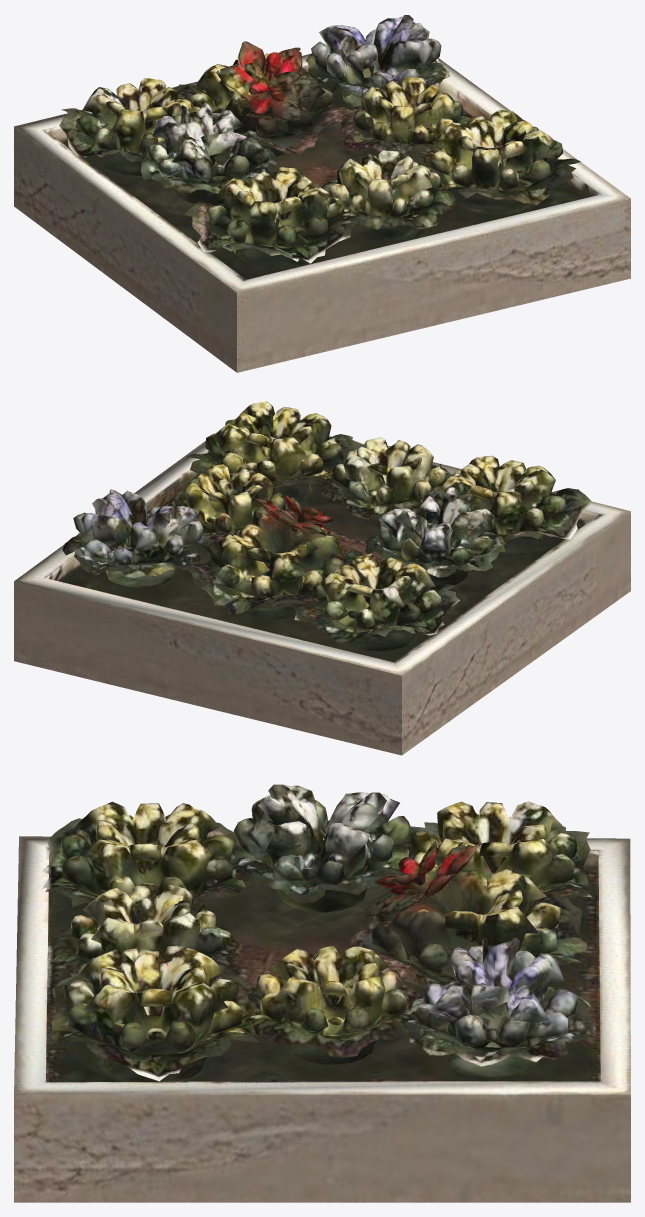
The model's file is act1-a23-3-garth-flower-bed.glb.
3 renders of one model, top to bottom at view 1: azimuth 30°, elevation 25°; view 2: azimuth 150°, elevation 25°; view 3: azimuth 270°, elevation 25°, orthographic. The views are drawn at different scales.
Parts seen in each view (by area): view 1: act1-a23-3-garth-flower-bed; view 2: act1-a23-3-garth-flower-bed; view 3: act1-a23-3-garth-flower-bed.
Part boxes in pixels (bbox=[...]): act1-a23-3-garth-flower-bed: bbox=[14, 15, 630, 372]; act1-a23-3-garth-flower-bed: bbox=[14, 401, 630, 755]; act1-a23-3-garth-flower-bed: bbox=[14, 784, 630, 1202].
Bounding box in the file's own units: 3.2 × 1.27 × 3.23.
Materials: 1 (1 with a texture image).
